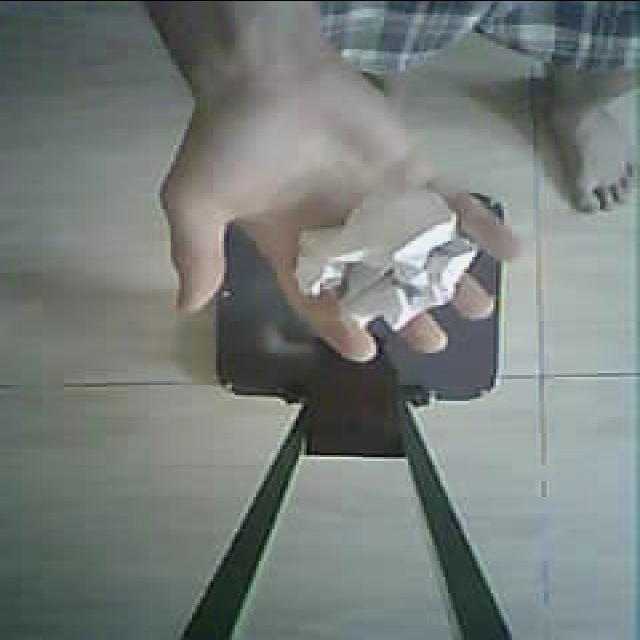Paper: (213, 141, 513, 426)
